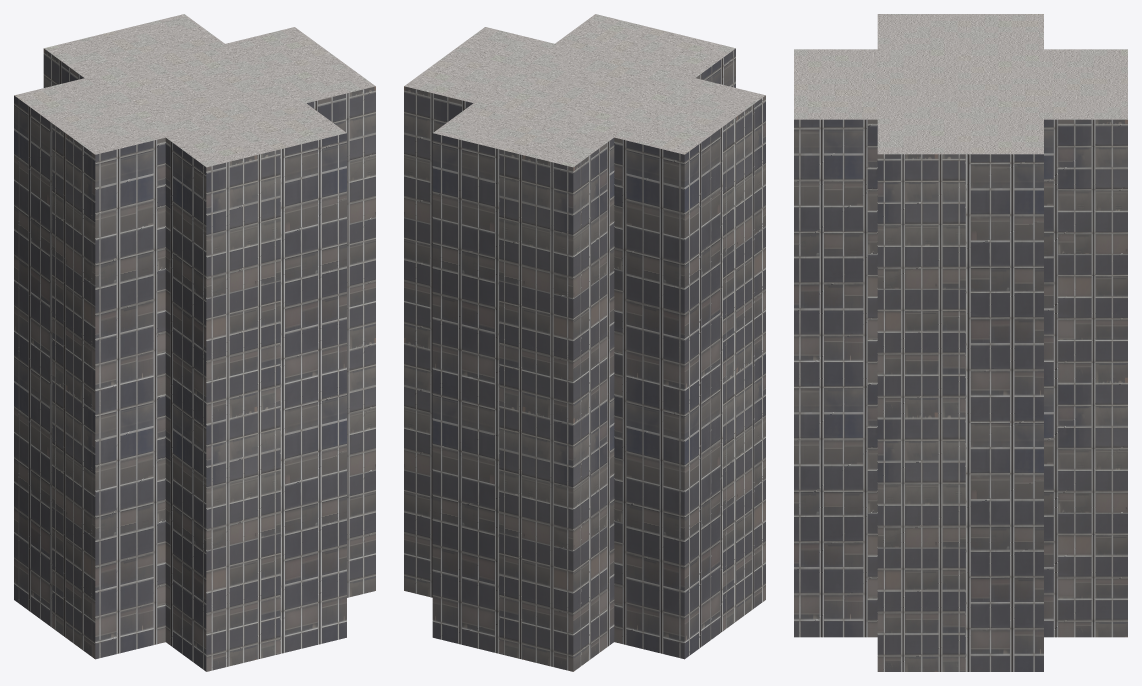
File: building_054.fbx
3 renders of one model, left to right at view 1: azimuth 30°, elevation 25°; view 2: azimuth 150°, elevation 25°; view 3: azimuth 270°, elevation 25°, orthographic. The views are drawn at different scales.
Parts seen in each view (by area): view 1: building_054; view 2: building_054; view 3: building_054.
Boxes of the visible parts, left/top/right/bottom form: building_054: left=14, top=14, right=375, bottom=671; building_054: left=404, top=14, right=765, bottom=671; building_054: left=794, top=14, right=1127, bottom=671.
Bounding box in the file's own units: 1397 × 2400 × 1403.
